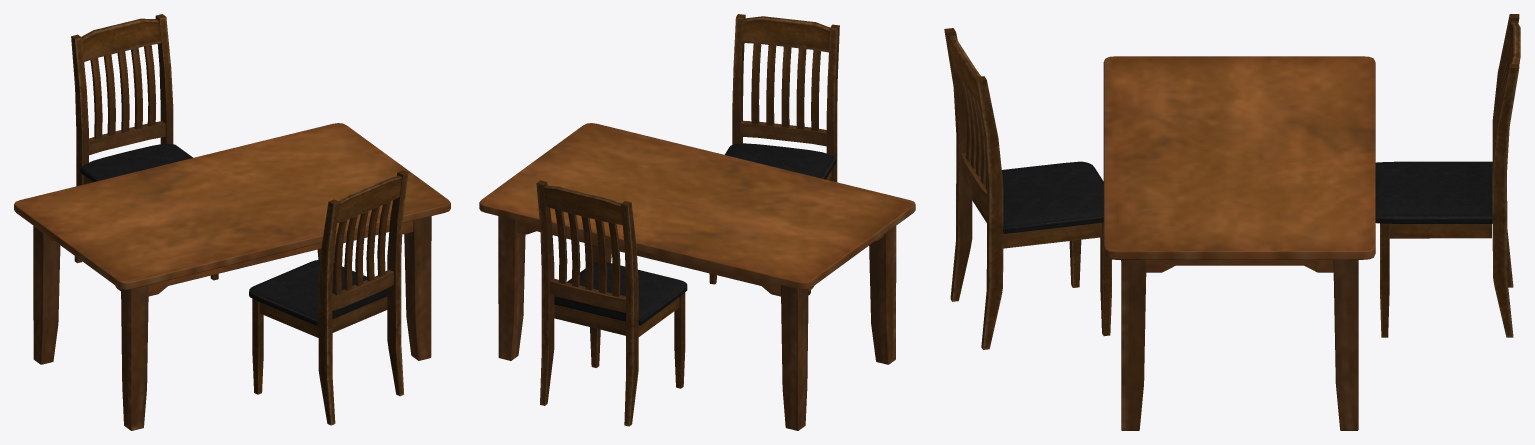
Rendered from old_table.fbx.
3 renders of one model, left to right at view 1: azimuth 30°, elevation 25°; view 2: azimuth 150°, elevation 25°; view 3: azimuth 270°, elevation 25°, orthographic. The views are drawn at different scales.
Visible parts, largest first — view 1: old_table, chair001, chair; view 2: old_table, chair, chair001; view 3: old_table, chair001, chair.
Boxes of the visible parts, <box> form: old_table: <box>14,123,450,430</box>; chair001: <box>249,170,408,425</box>; chair: <box>71,14,218,280</box>; old_table: <box>479,123,915,430</box>; chair: <box>536,180,687,426</box>; chair001: <box>709,14,839,294</box>; old_table: <box>1103,56,1375,430</box>; chair001: <box>944,28,1111,349</box>; chair: <box>1375,14,1520,337</box>.
Bounding box in the file's own units: 3.32 × 2.39 × 4.13.
